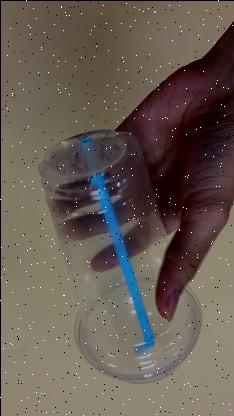Others: (35, 130, 202, 384)
